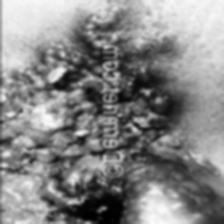Toxin: (0, 43, 103, 224), (122, 77, 184, 161)
